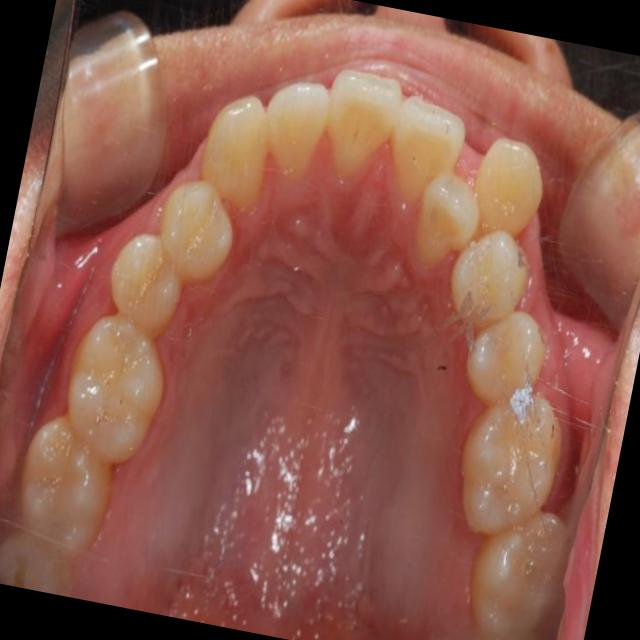Caries: (551, 424, 555, 439)
Tooth: (462, 392, 562, 537), (68, 314, 164, 464), (470, 512, 572, 640), (20, 416, 112, 557), (326, 69, 403, 182), (200, 95, 270, 215), (391, 96, 466, 204), (466, 311, 548, 405), (451, 230, 528, 329), (160, 179, 233, 283), (110, 233, 182, 335), (475, 137, 543, 238), (267, 82, 330, 184), (415, 171, 482, 265)
